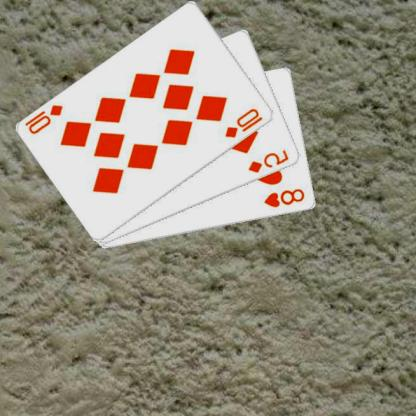10D: (24, 102, 67, 135), (224, 106, 266, 139)
5D: (248, 147, 292, 174)
8H: (263, 186, 308, 209)
